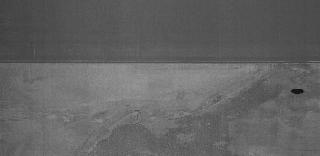punching hole: (288, 86, 306, 96)
welding line: (2, 56, 320, 70)
